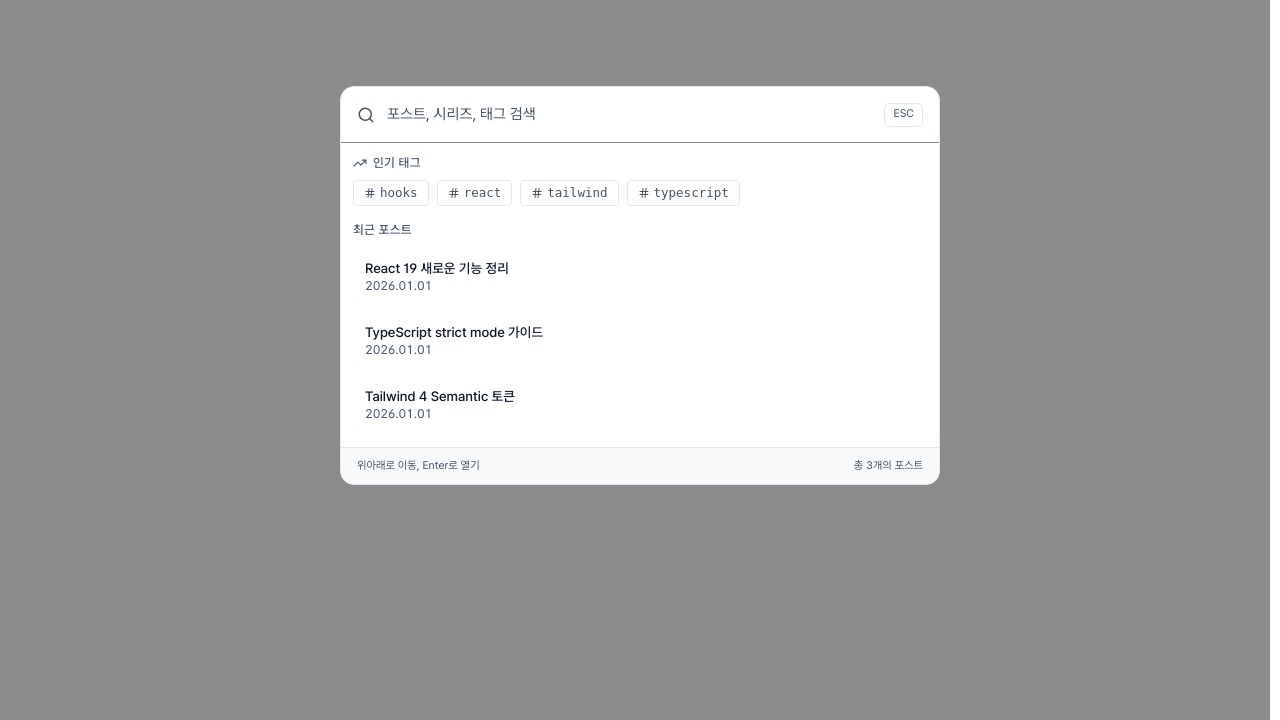
Test: SearchModal › 결과가 없을 때 검색어를 되짚어 안내한다
The width and height of the screenshot is (1280, 720).
Type "zzzzzzzzzz" into the field named "검색어". click: [630, 115]
box: x1=387 y1=93 x2=872 y2=137
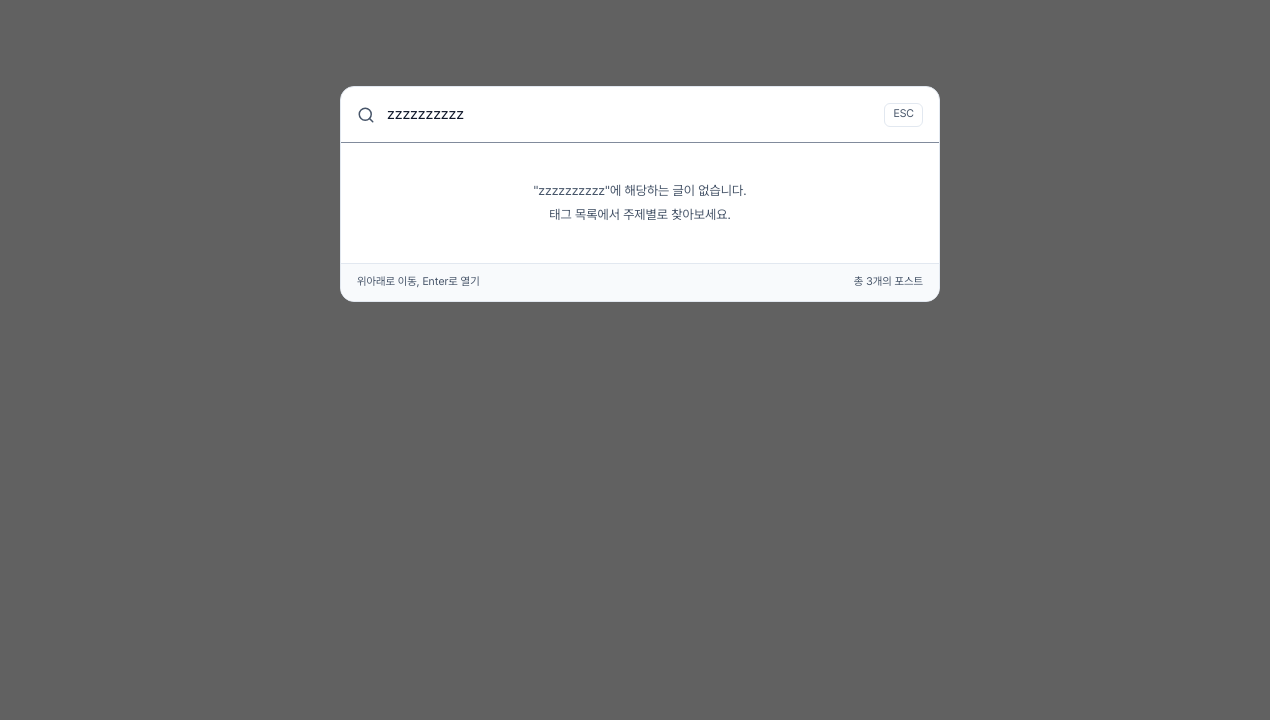
Check: the text "\"zzzzzzzzzz\"에 해당하는 글이 없습니다.태그 목록에서 주제별로 찾아보세요." is shown, box x1=533 y1=183 x2=747 y2=222
